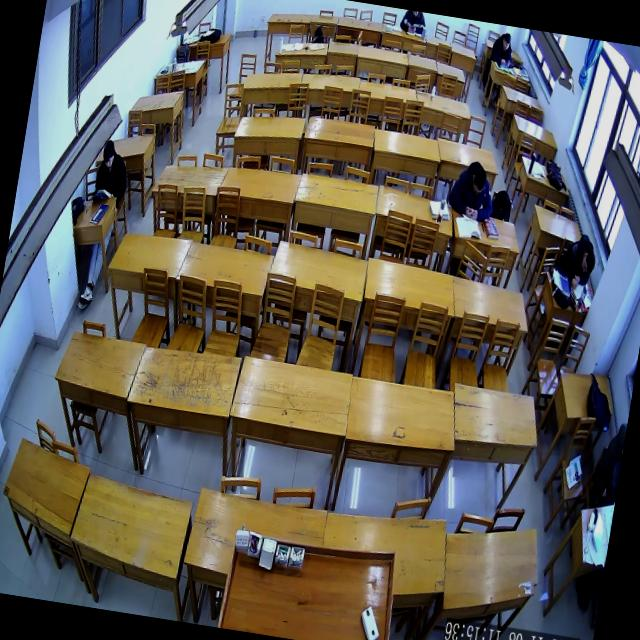down: (469, 166, 489, 198), (100, 138, 118, 172), (578, 248, 598, 278), (500, 32, 513, 53)
sit: (445, 158, 500, 225), (552, 230, 600, 296), (90, 134, 134, 205), (488, 30, 518, 70)
